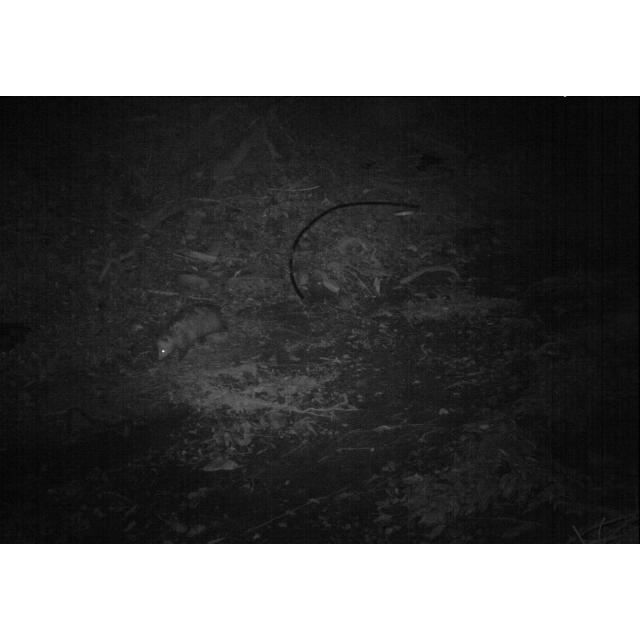animals: (154, 298, 232, 364)
